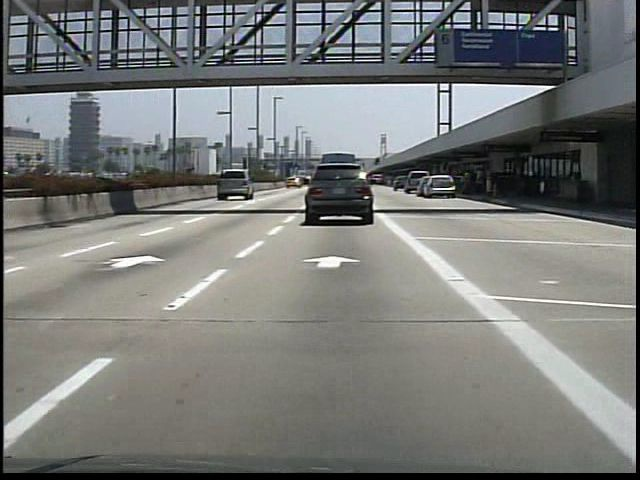person: (462, 167, 476, 199)
